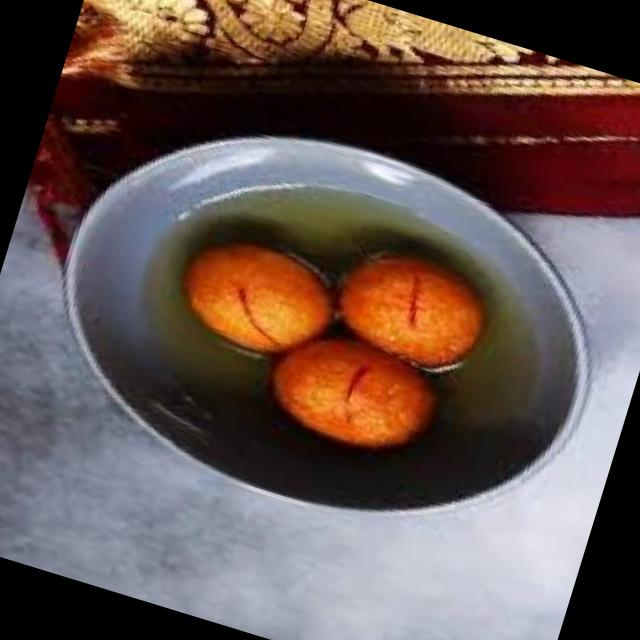gulab_jamun: (261, 320, 447, 466), (326, 237, 496, 378), (172, 229, 342, 368)
